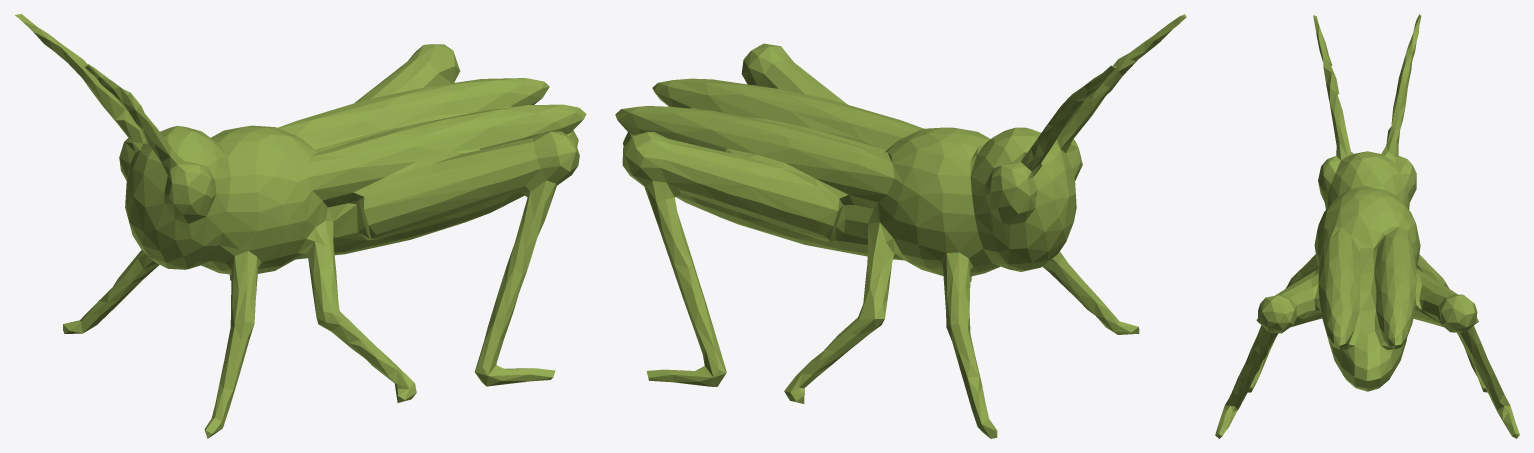
File: NEW_RECOVERY_031_LOD1.glb
3 views of the same model, side by side, from view 1: azimuth 30°, elevation 25°; view 2: azimuth 150°, elevation 25°; view 3: azimuth 270°, elevation 25° (orthographic). The views are drawn at different scales.
Visible parts, largest first — view 1: Grasshopper_closed_sculpture; view 2: Grasshopper_closed_sculpture; view 3: Grasshopper_closed_sculpture.
Boxes of the visible parts, bbox=[...] form: Grasshopper_closed_sculpture: bbox=[15, 14, 586, 438]; Grasshopper_closed_sculpture: bbox=[615, 14, 1186, 438]; Grasshopper_closed_sculpture: bbox=[1215, 14, 1519, 438].
Bounding box in the file's own units: 3.46 × 2.3 × 2.29.
